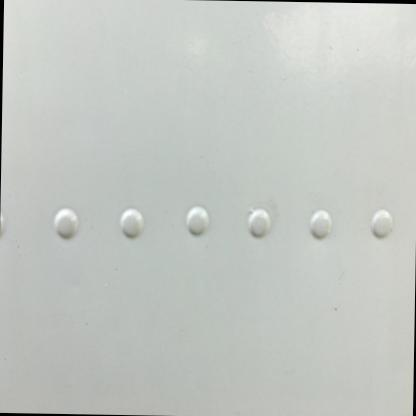Nocrack: (2, 12, 414, 402)
